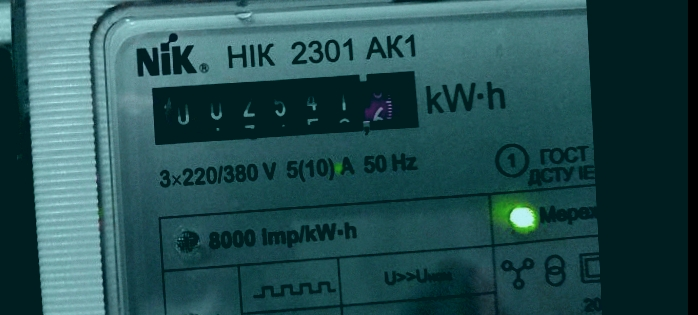0: (205, 88, 225, 122), (174, 96, 192, 125)
1: (332, 79, 350, 112)
2: (236, 85, 258, 120)
4: (301, 81, 320, 113)
5: (270, 86, 287, 119)
6: (369, 101, 386, 123)
screen: (136, 54, 440, 159)
